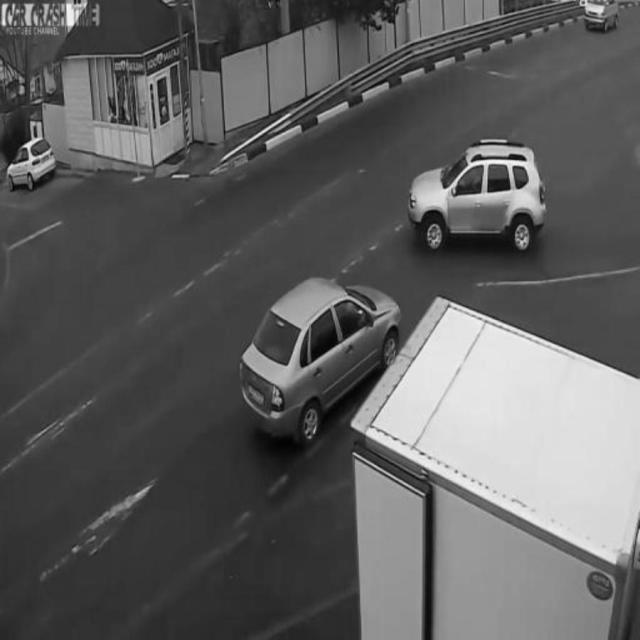vehicle: (242, 275, 402, 435), (405, 131, 549, 257), (9, 138, 57, 189), (583, 0, 625, 36)
